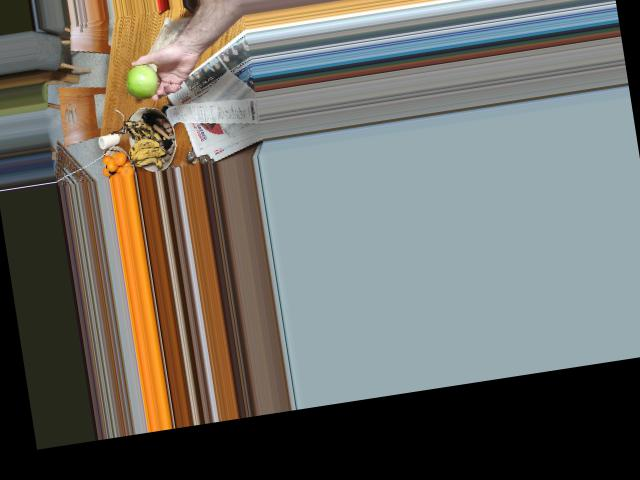apple: (118, 63, 162, 101)
